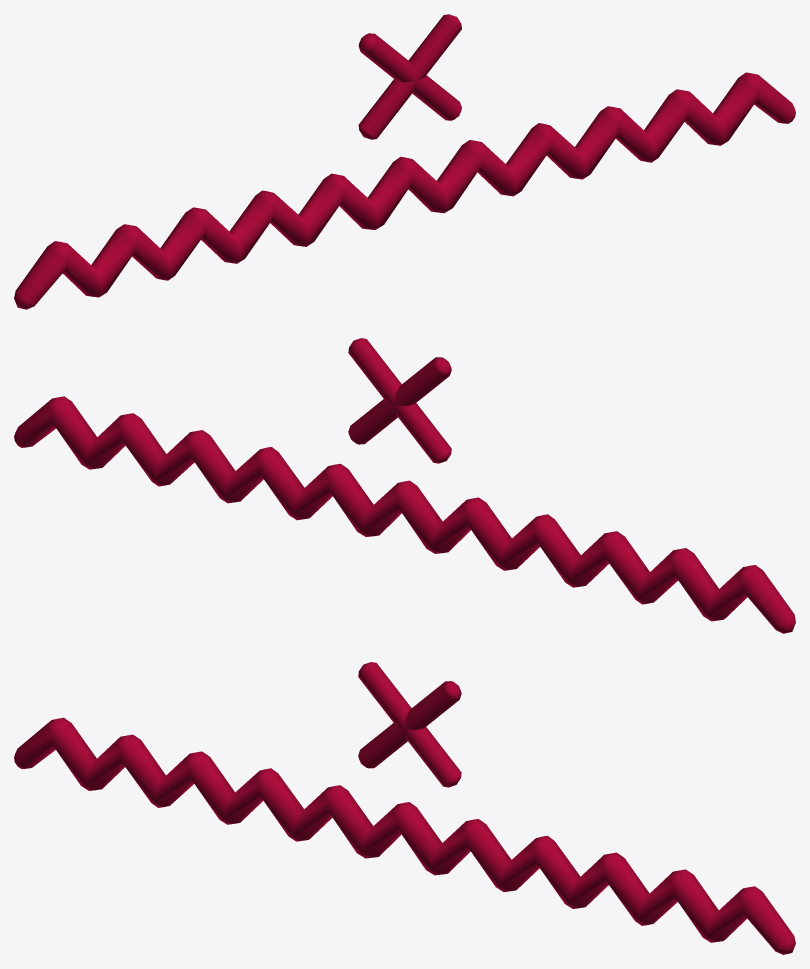
File: Obstacle.fbx
The picture shows the model from 3 angles, top to bottom: view 1: azimuth 30°, elevation 25°; view 2: azimuth 150°, elevation 25°; view 3: azimuth 330°, elevation 25°; orthographic projection.
Parts seen in each view (by area): view 1: Obstacle1, Obstacle2; view 2: Obstacle1, Obstacle2; view 3: Obstacle1, Obstacle2.
Boxes of the visible parts, left/top/right/bottom form: Obstacle1: left=14, top=72, right=795, bottom=309; Obstacle2: left=358, top=14, right=461, bottom=139; Obstacle1: left=14, top=396, right=795, bottom=633; Obstacle2: left=348, top=338, right=451, bottom=463; Obstacle1: left=14, top=717, right=795, bottom=954; Obstacle2: left=358, top=662, right=461, bottom=787.
Size of the model in its own units: 31.87 by 7.62 by 1.07.
